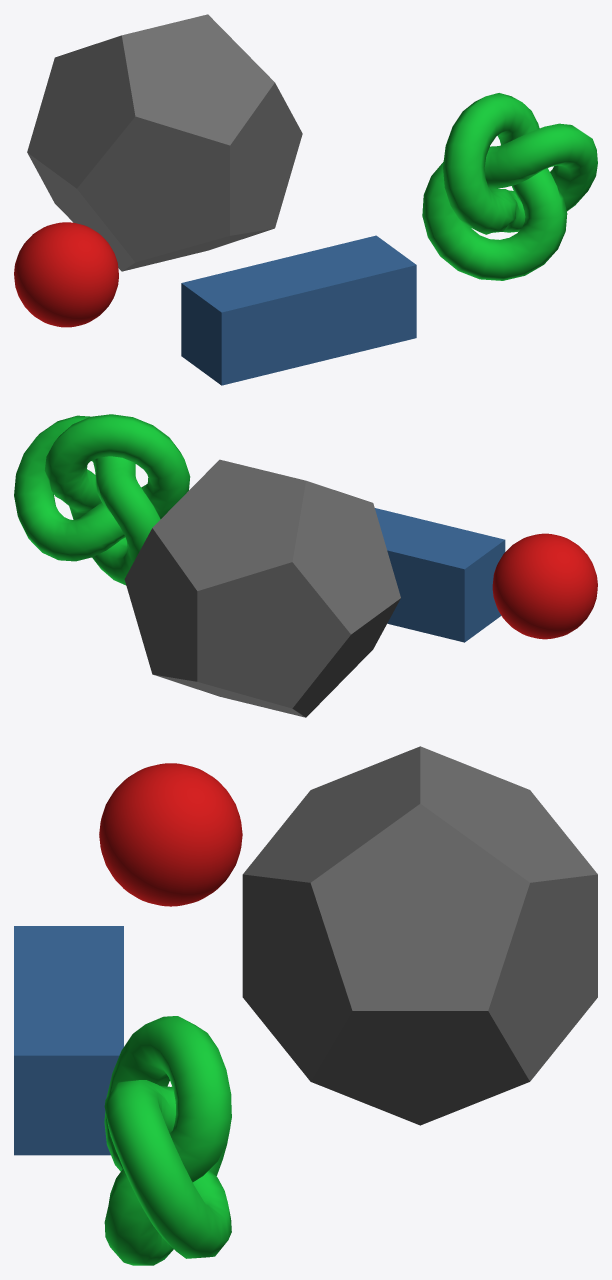
The model's file is directional.glb.
3 views of the same model, one above another, from view 1: azimuth 30°, elevation 25°; view 2: azimuth 150°, elevation 25°; view 3: azimuth 270°, elevation 25° (orthographic). The views are drawn at different scales.
Visible parts, largest first — view 1: Dodecahedron, Box, TorusKnot, Sphere; view 2: Dodecahedron, TorusKnot, Box, Sphere; view 3: Dodecahedron, TorusKnot, Box, Sphere.
Boxes of the visible parts, x1,y1,x2,y2 form: Dodecahedron: [27, 14, 302, 271]; Box: [181, 235, 416, 385]; TorusKnot: [422, 93, 597, 280]; Sphere: [14, 222, 118, 327]; Dodecahedron: [124, 459, 400, 717]; TorusKnot: [14, 414, 190, 585]; Box: [375, 508, 505, 642]; Sphere: [492, 533, 597, 639]; Dodecahedron: [242, 746, 597, 1125]; TorusKnot: [104, 1016, 231, 1265]; Box: [14, 926, 123, 1155]; Sphere: [99, 763, 242, 906].
Size of the model in its own units: 12.56 by 5.03 by 8.14.
